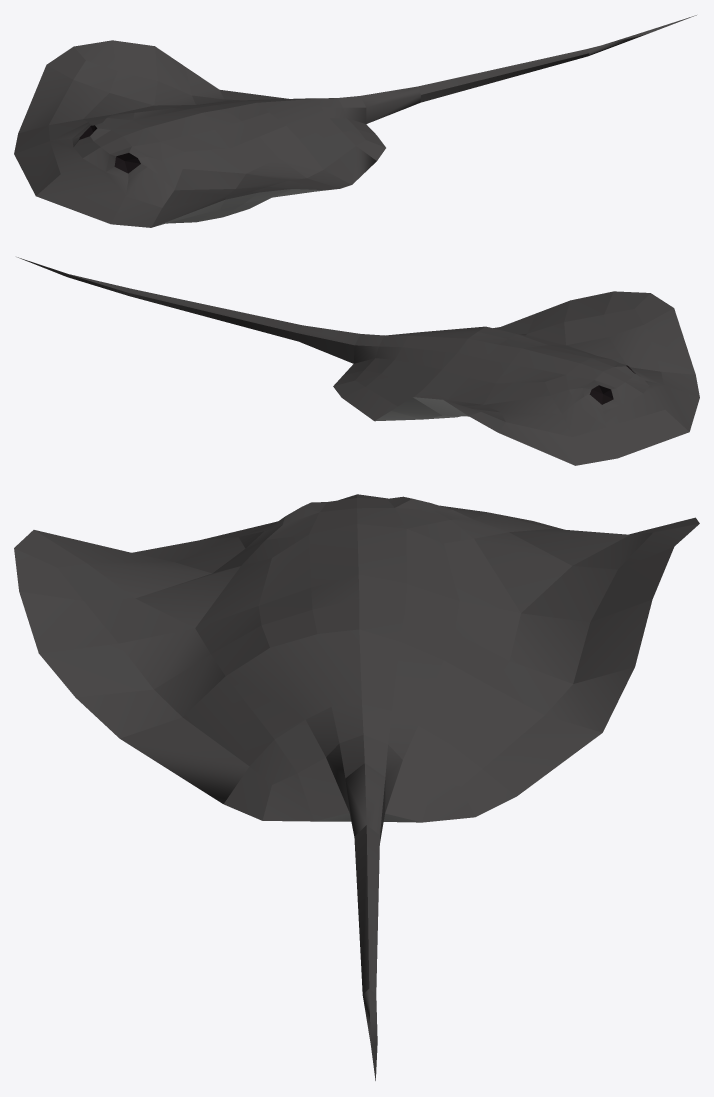
The picture shows the model from 3 angles, top to bottom: view 1: azimuth 30°, elevation 25°; view 2: azimuth 150°, elevation 25°; view 3: azimuth 270°, elevation 25°; orthographic projection. The views are drawn at different scales.
Visible parts, largest first — view 1: M_yu03; view 2: M_yu03; view 3: M_yu03.
Boxes of the visible parts, box(x1,y1,x2,y2) form: M_yu03: box(14, 15, 696, 227); M_yu03: box(17, 257, 699, 465); M_yu03: box(14, 494, 699, 1080).
Bounding box in the file's own units: 1.75 × 0.1734 × 0.8297.
